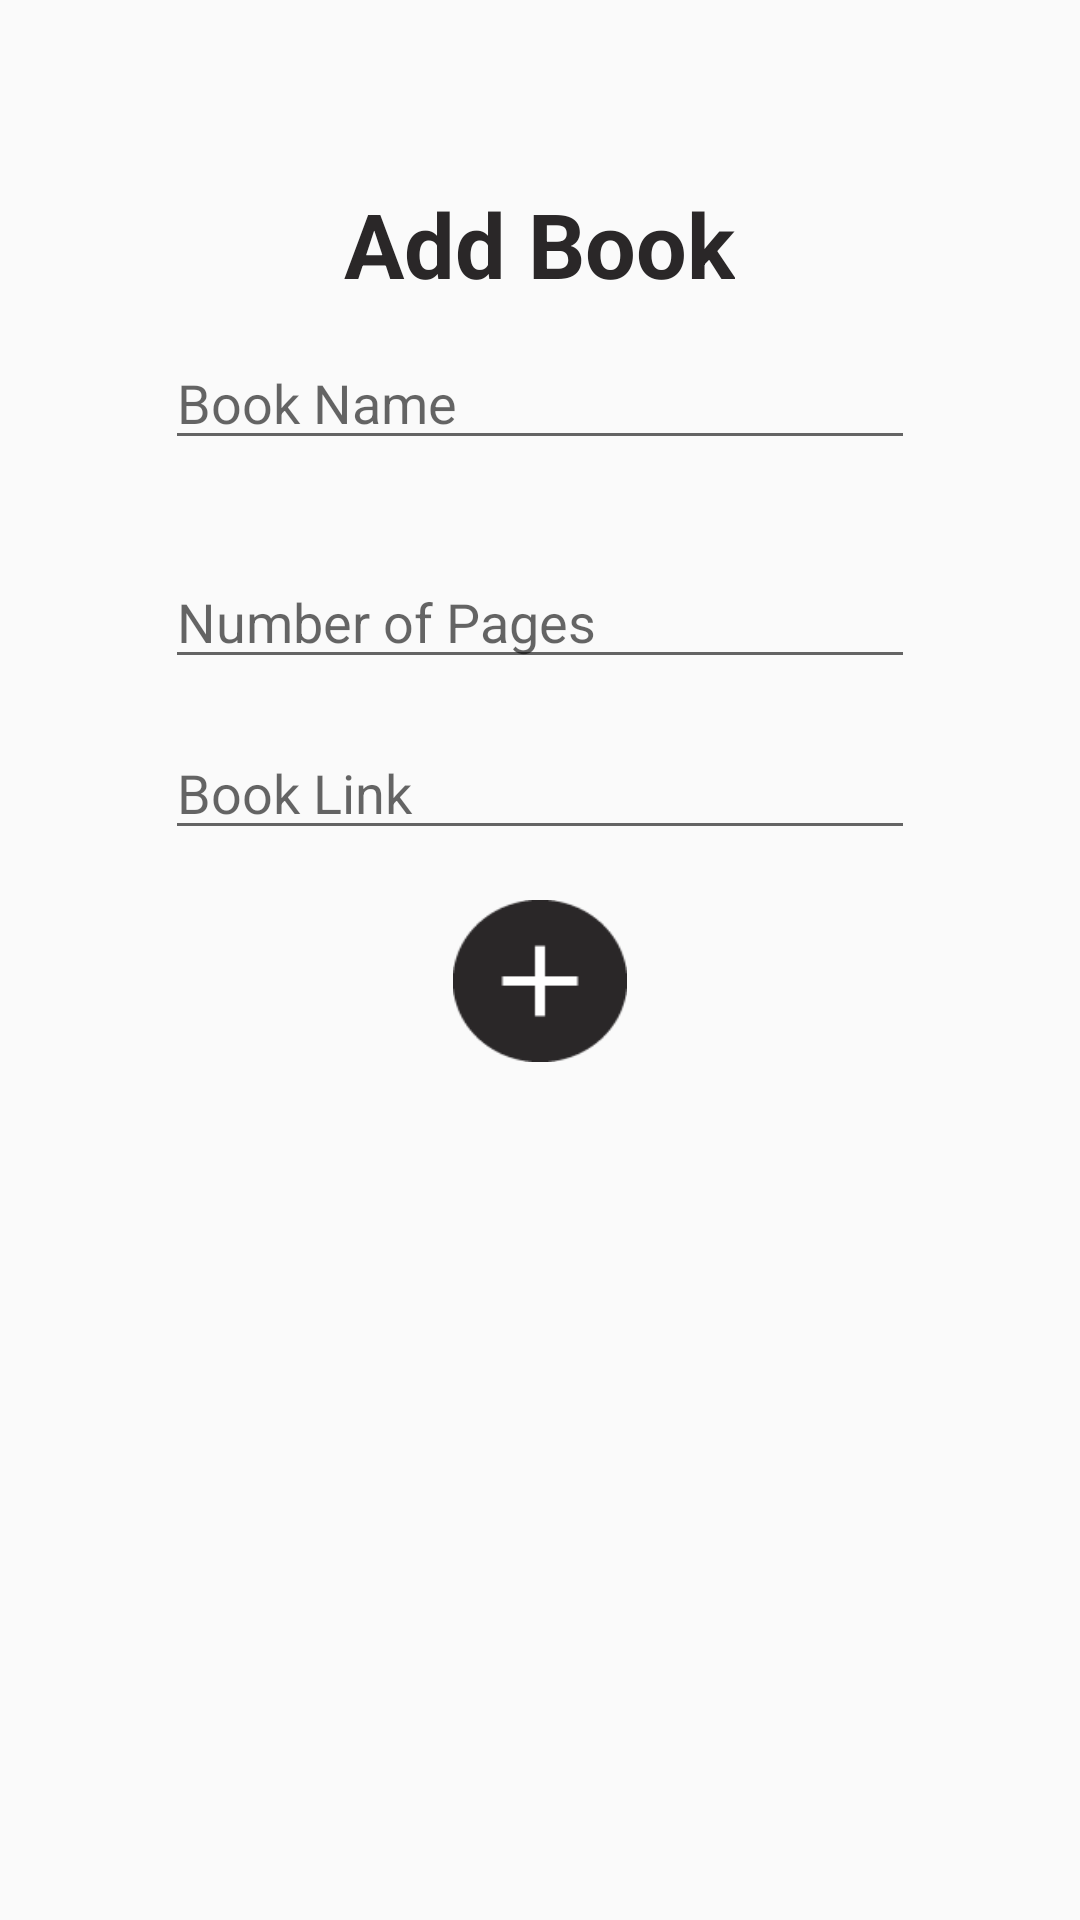

Icon bounding boxes for this 1080×1920 phone screenshot, format (x1=x1, y1=y1, x2=x2, y2=y2):
add: (x1=453, y1=900, x2=627, y2=1062)
